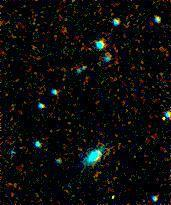star: (97, 181, 127, 205)
